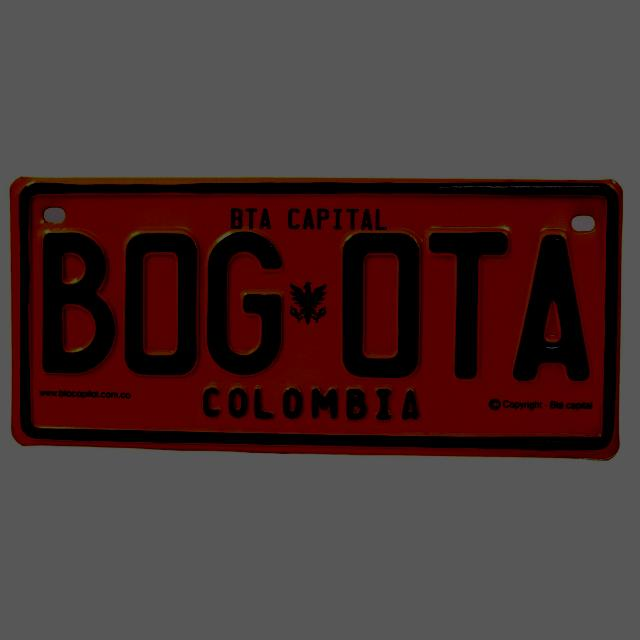placa: (17, 179, 621, 458)
